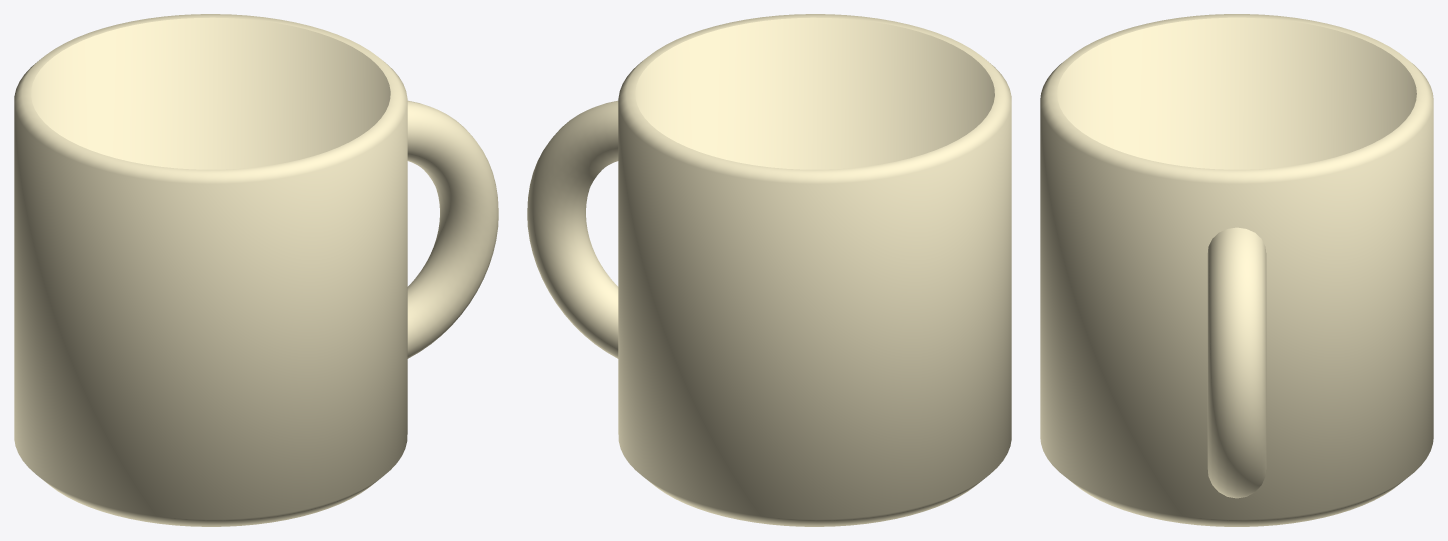
File: mug.fbx
The picture shows the model from 3 angles, left to right: view 1: azimuth 30°, elevation 25°; view 2: azimuth 150°, elevation 25°; view 3: azimuth 270°, elevation 25°; orthographic projection.
Parts seen in each view (by area): view 1: Cylinder, Torus.003; view 2: Cylinder, Torus.003; view 3: Cylinder, Torus.003.
Boxes of the visible parts, x1,y1,x2,y2 form: Cylinder: [14, 14, 407, 526]; Torus.003: [407, 100, 498, 358]; Cylinder: [618, 14, 1011, 526]; Torus.003: [527, 100, 618, 358]; Cylinder: [1040, 14, 1433, 526]; Torus.003: [1207, 227, 1266, 498].
Bounding box in the file's own units: 267 × 200 × 200.
